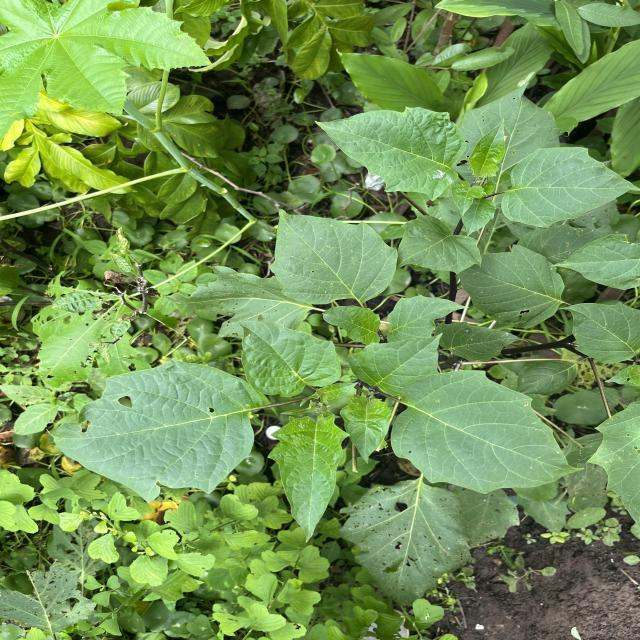Datura metal linn: (44, 356, 266, 506), (389, 368, 586, 496), (311, 104, 468, 203), (266, 203, 400, 306), (499, 145, 640, 229), (266, 412, 352, 544), (398, 212, 486, 277), (554, 300, 640, 365)
